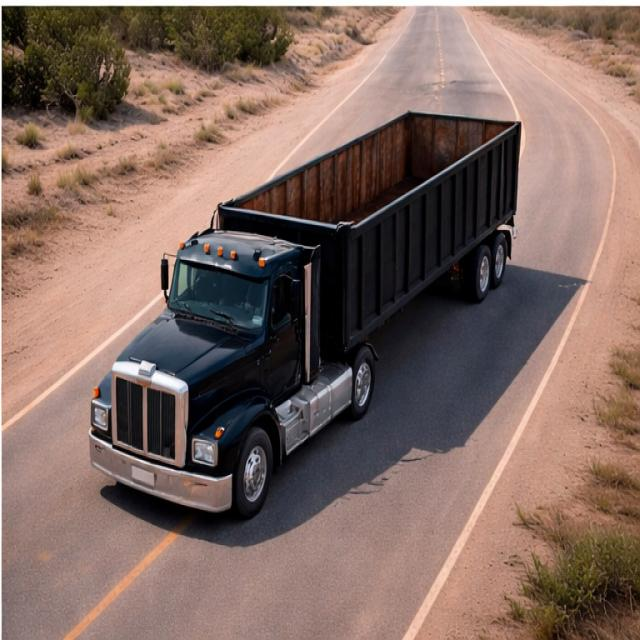trailer: (217, 111, 540, 236)
truck: (85, 74, 558, 534)
